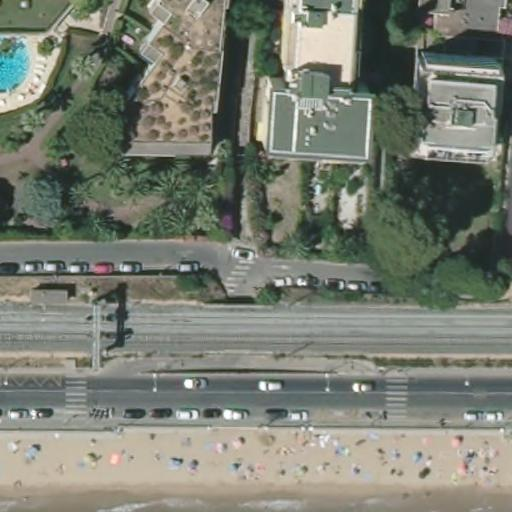pool: (0, 36, 37, 94)
